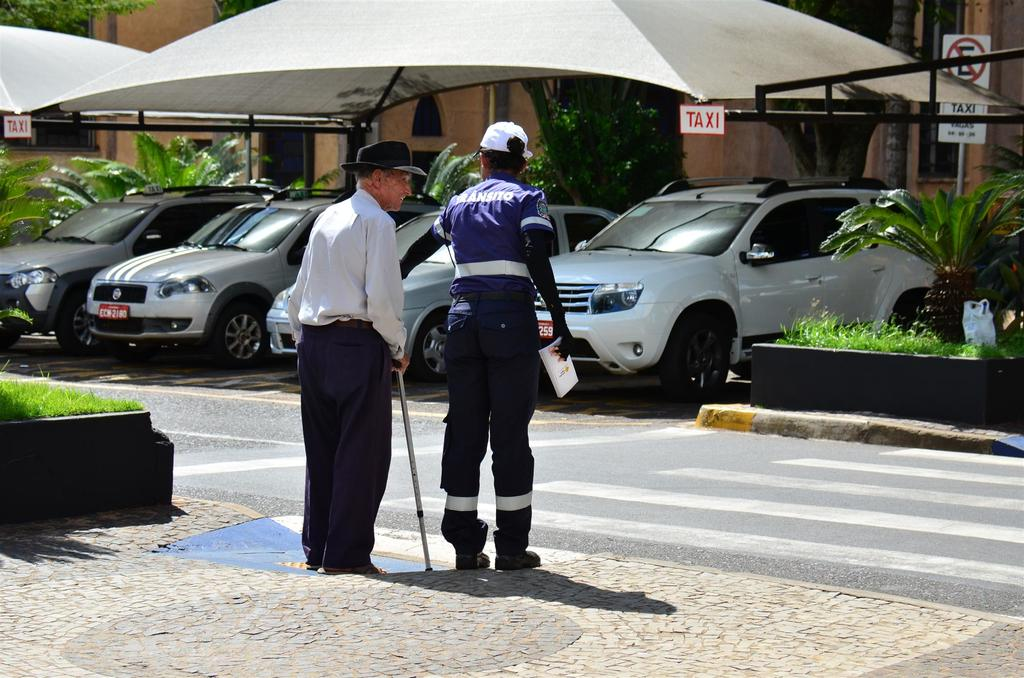Car: (0, 178, 938, 410)
